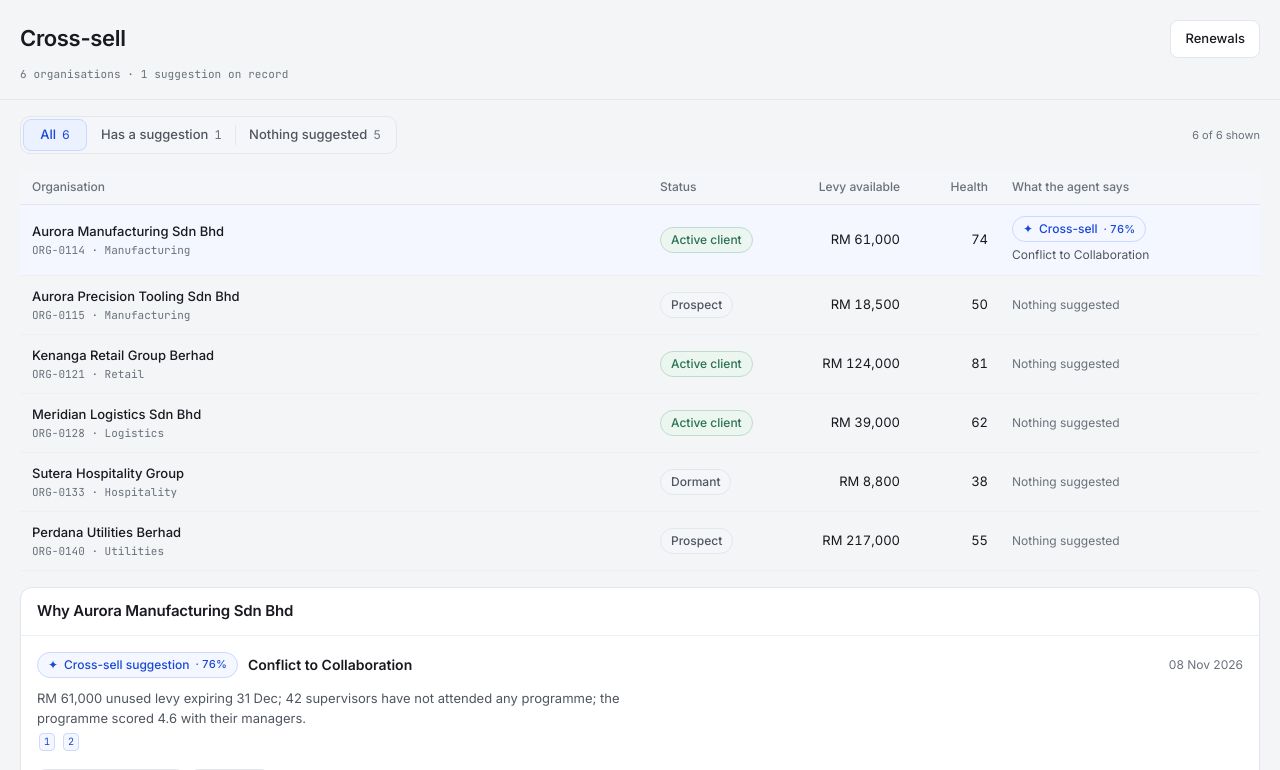
Relationships › Cross-sell › says plainly when an agent had nothing to say, rather than showing a gap
The image size is (1280, 770).
Click the text "Sutera Hospitality Group": click(108, 473) [32,465,184,481]
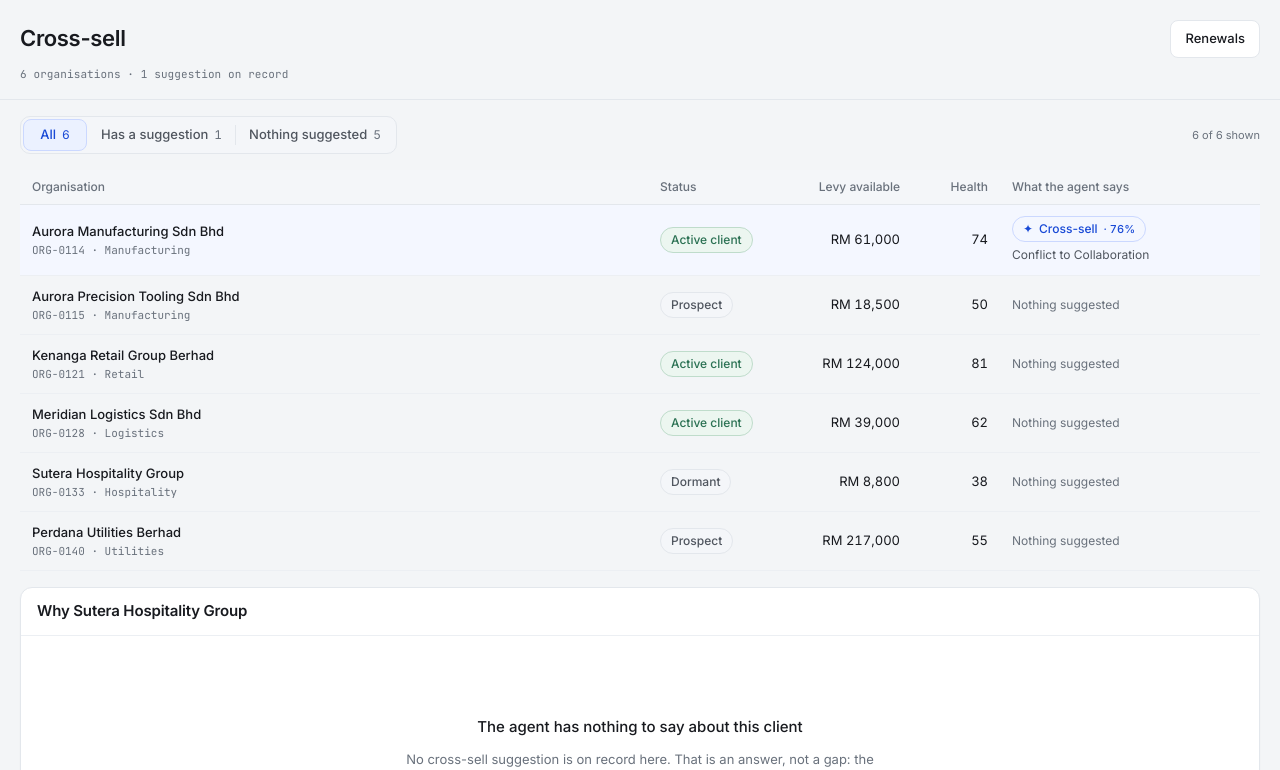
Result: the text "The agent has nothing to say about this client" is shown at [477,716,803,738]
